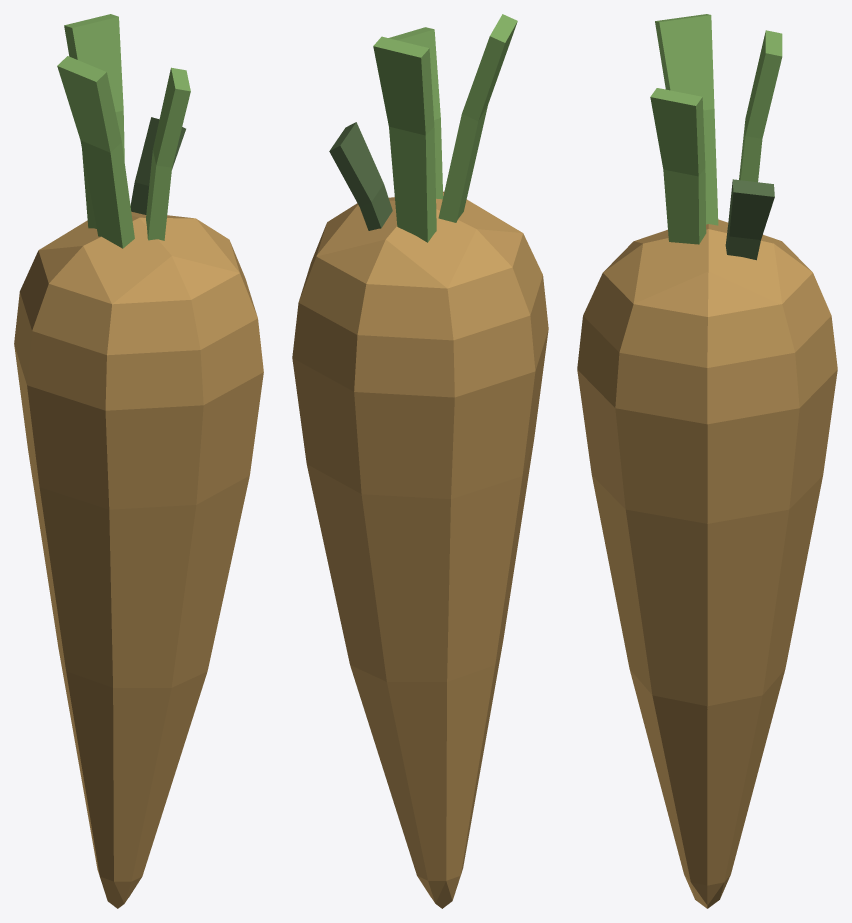
Rendered from Carrot_Crop.glb.
3 renders of one model, left to right at view 1: azimuth 30°, elevation 25°; view 2: azimuth 150°, elevation 25°; view 3: azimuth 270°, elevation 25°, orthographic. The views are drawn at different scales.
Parts seen in each view (by area): view 1: Carrot_Crop; view 2: Carrot_Crop; view 3: Carrot_Crop.
Part boxes in pixels (x1,y1,x2,y2): Carrot_Crop: (14, 14, 263, 908); Carrot_Crop: (292, 14, 548, 908); Carrot_Crop: (577, 14, 837, 908).
Size of the model in its own units: 0.239 by 0.8809 by 0.239.
